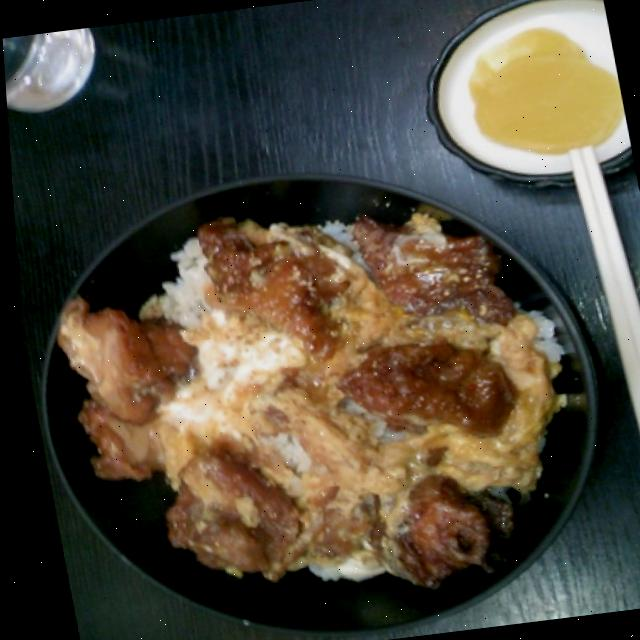米饭主食: (7, 126, 640, 640)
